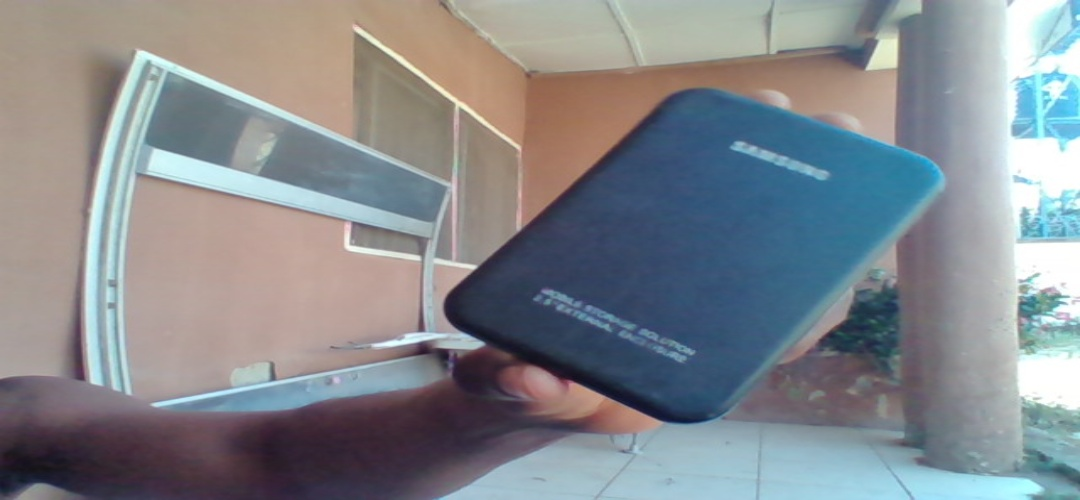hard_disk_case: (469, 71, 939, 434)
